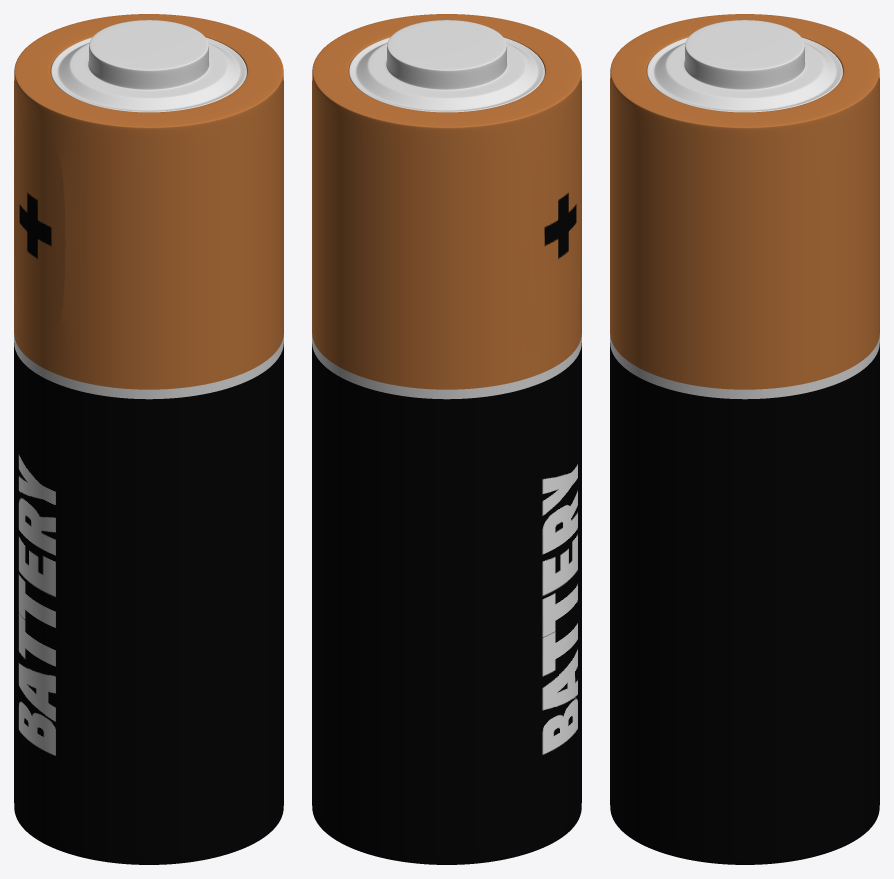
The model's file is Battery.fbx.
3 views of the same model, side by side, from view 1: azimuth 30°, elevation 25°; view 2: azimuth 150°, elevation 25°; view 3: azimuth 270°, elevation 25° (orthographic).
Visible parts, largest first — view 1: Cylinder.003, Cylinder.001; view 2: Cylinder.003, Cylinder.001; view 3: Cylinder.003, Cylinder.001.
Boxes of the visible parts, x1=… form: Cylinder.003: x1=14, y1=14, x2=283, y2=864; Cylinder.001: x1=51, y1=20, x2=246, y2=112; Cylinder.003: x1=312, y1=14, x2=581, y2=864; Cylinder.001: x1=349, y1=20, x2=544, y2=112; Cylinder.003: x1=610, y1=14, x2=879, y2=864; Cylinder.001: x1=647, y1=20, x2=842, y2=112.
Bounding box in the file's own units: 199 × 621 × 199.
6 materials, 2 textured.
